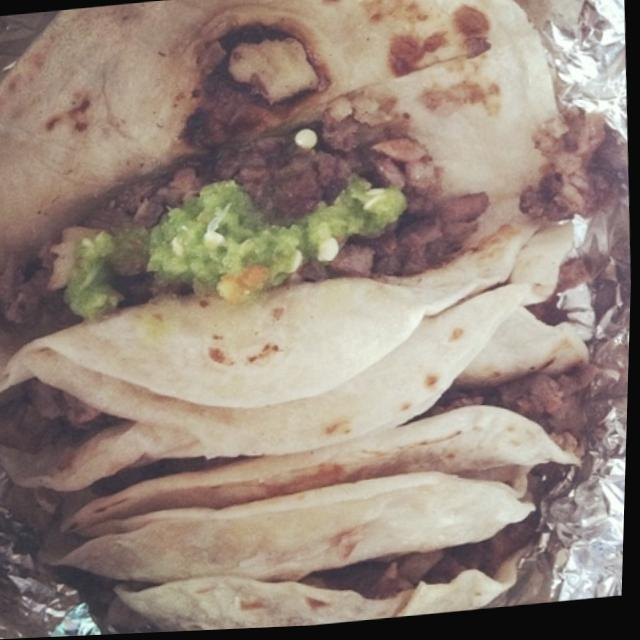面包点心: (0, 0, 619, 634)
